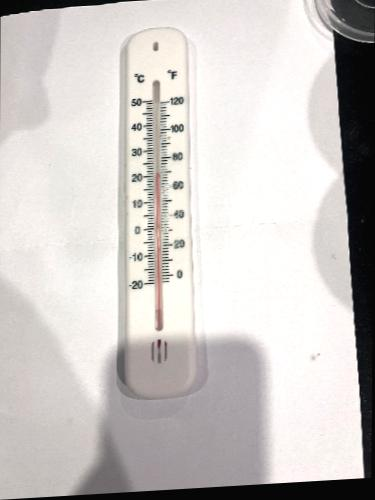thermo: (108, 29, 198, 400)
